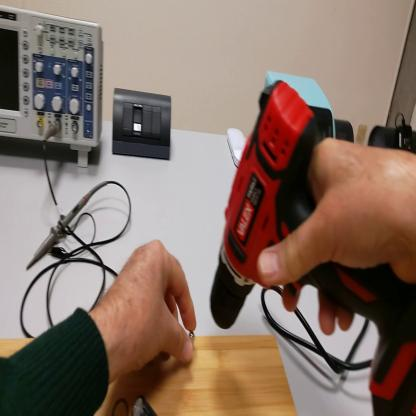electric screwdriver: (211, 85, 416, 403)
hand: (257, 139, 416, 337), (100, 238, 200, 377)
high voltage board: (113, 395, 155, 414)
oscilloscope: (1, 3, 104, 164)
oscilloscope probe tip: (27, 179, 108, 273)
socket: (368, 121, 415, 145), (332, 120, 354, 141)
welder station: (264, 69, 335, 136)
working area: (1, 334, 300, 416)
